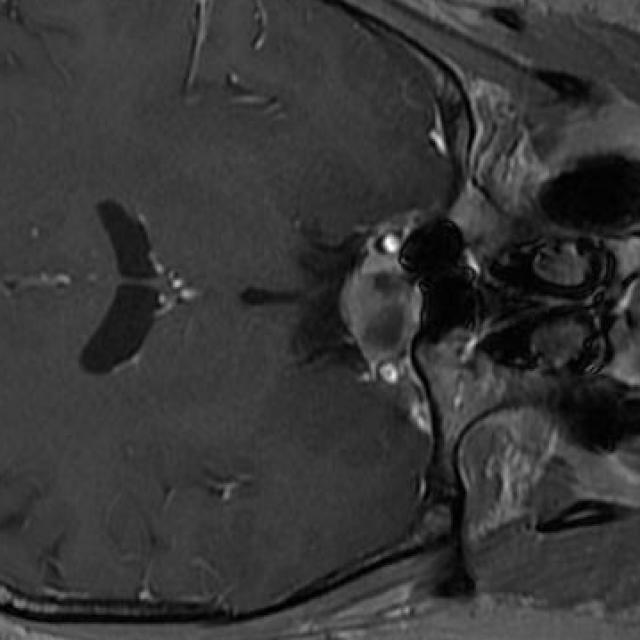pituitary: (341, 253, 424, 365)
